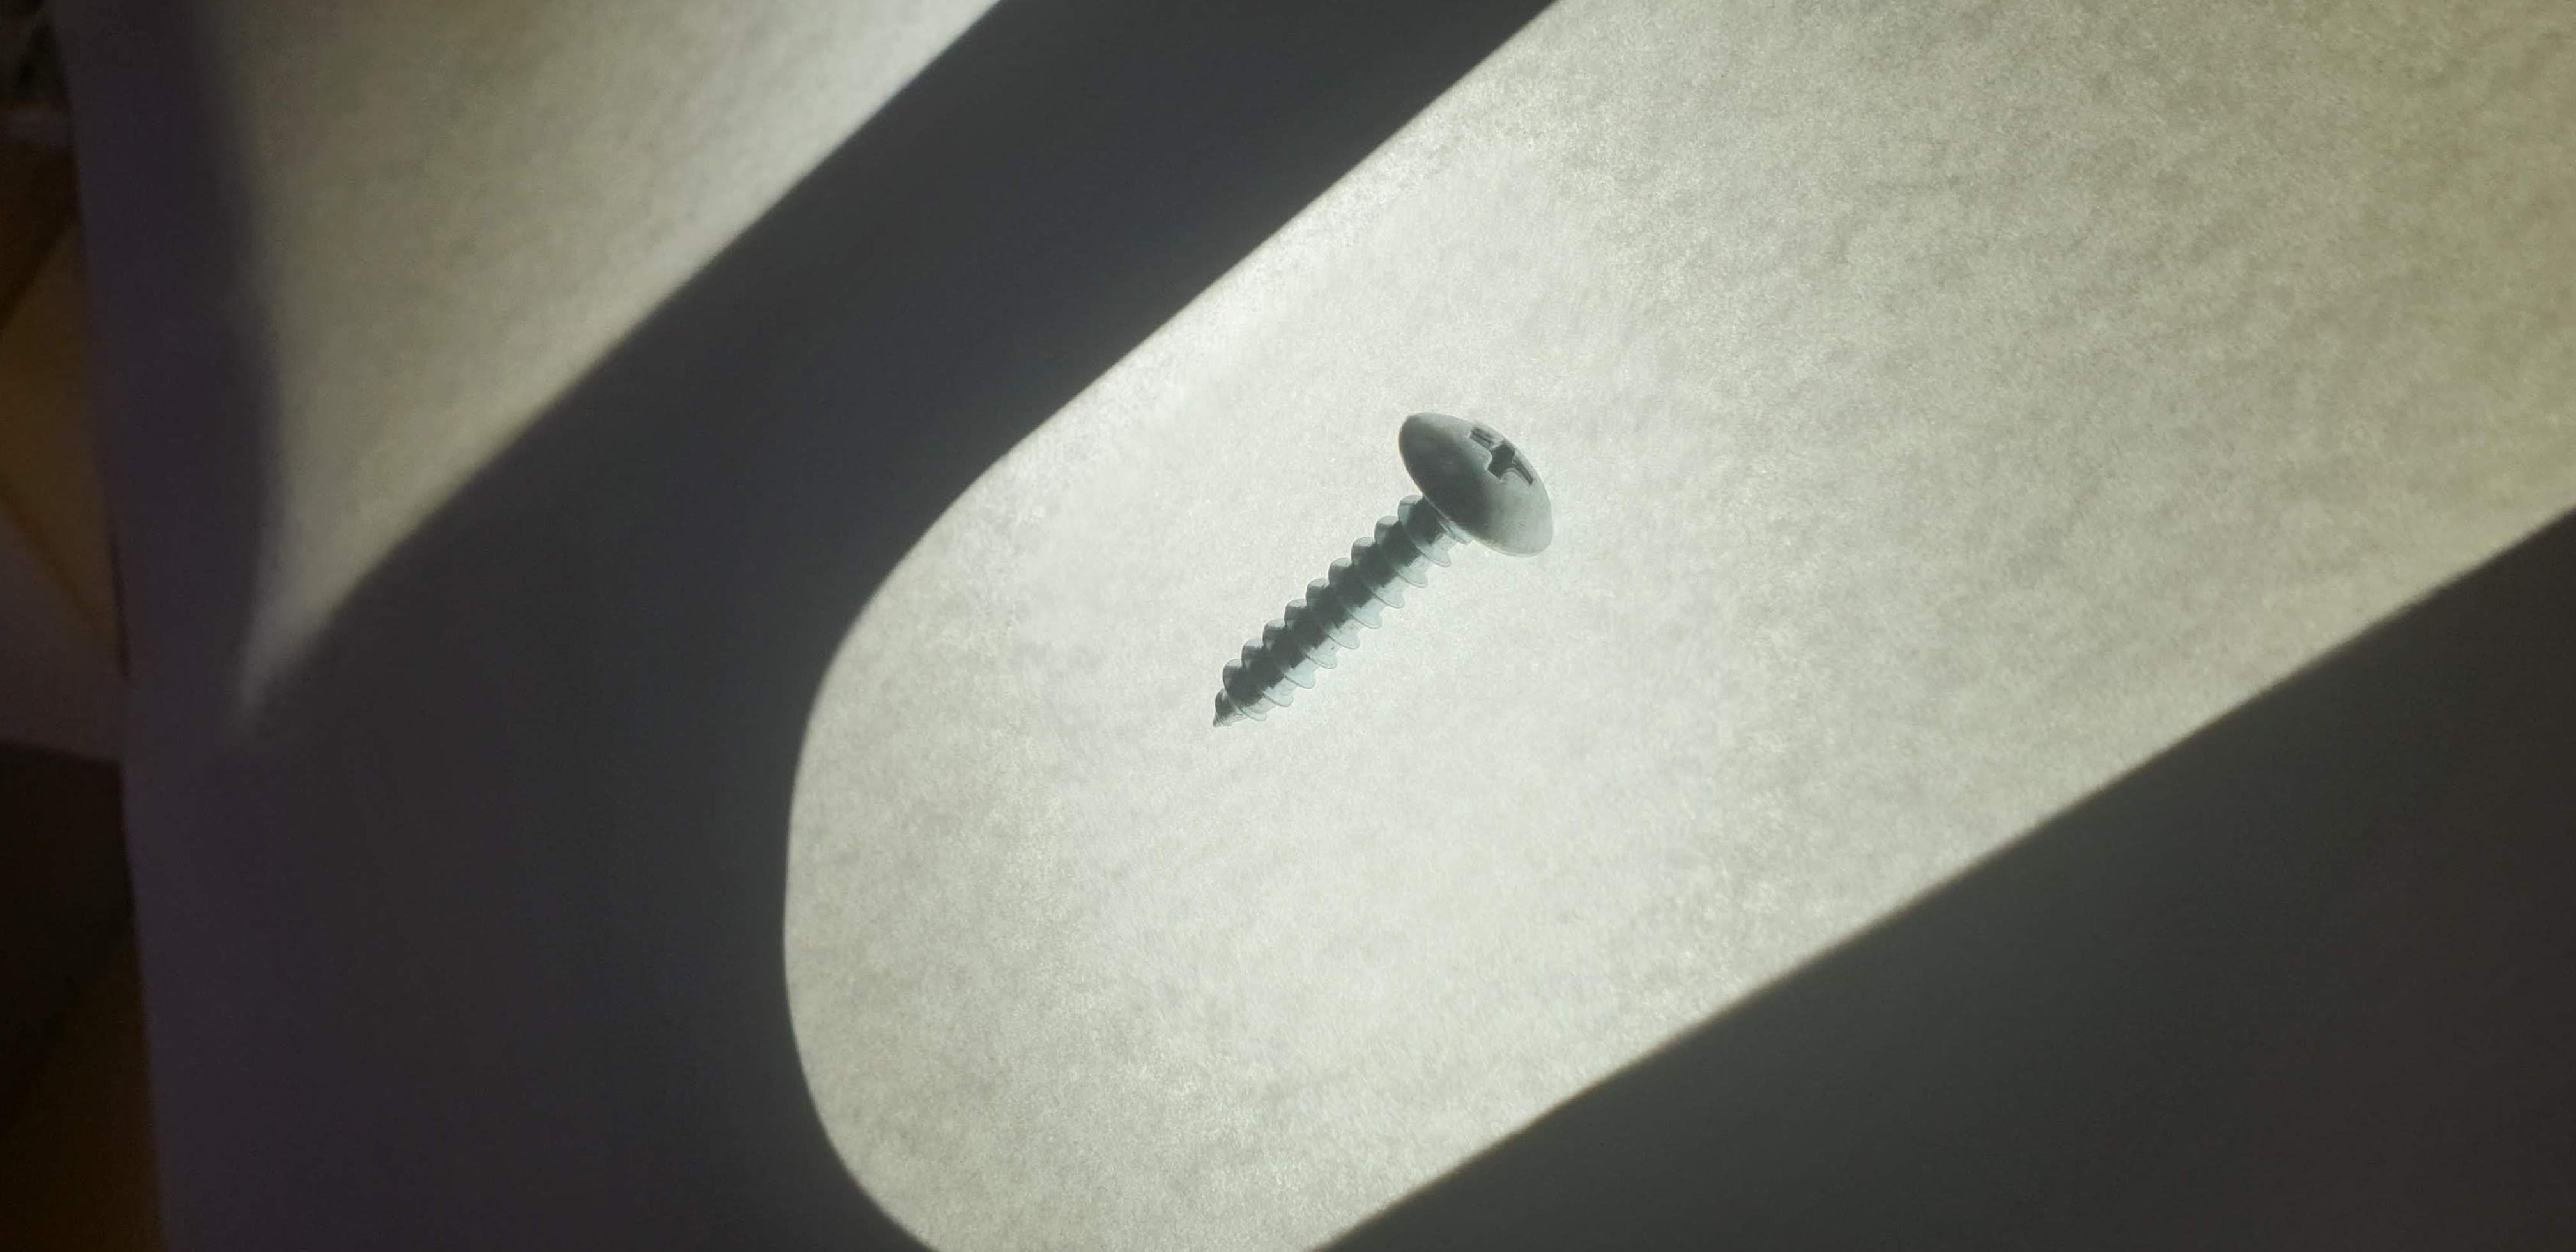S002: (1148, 373, 1605, 777)
